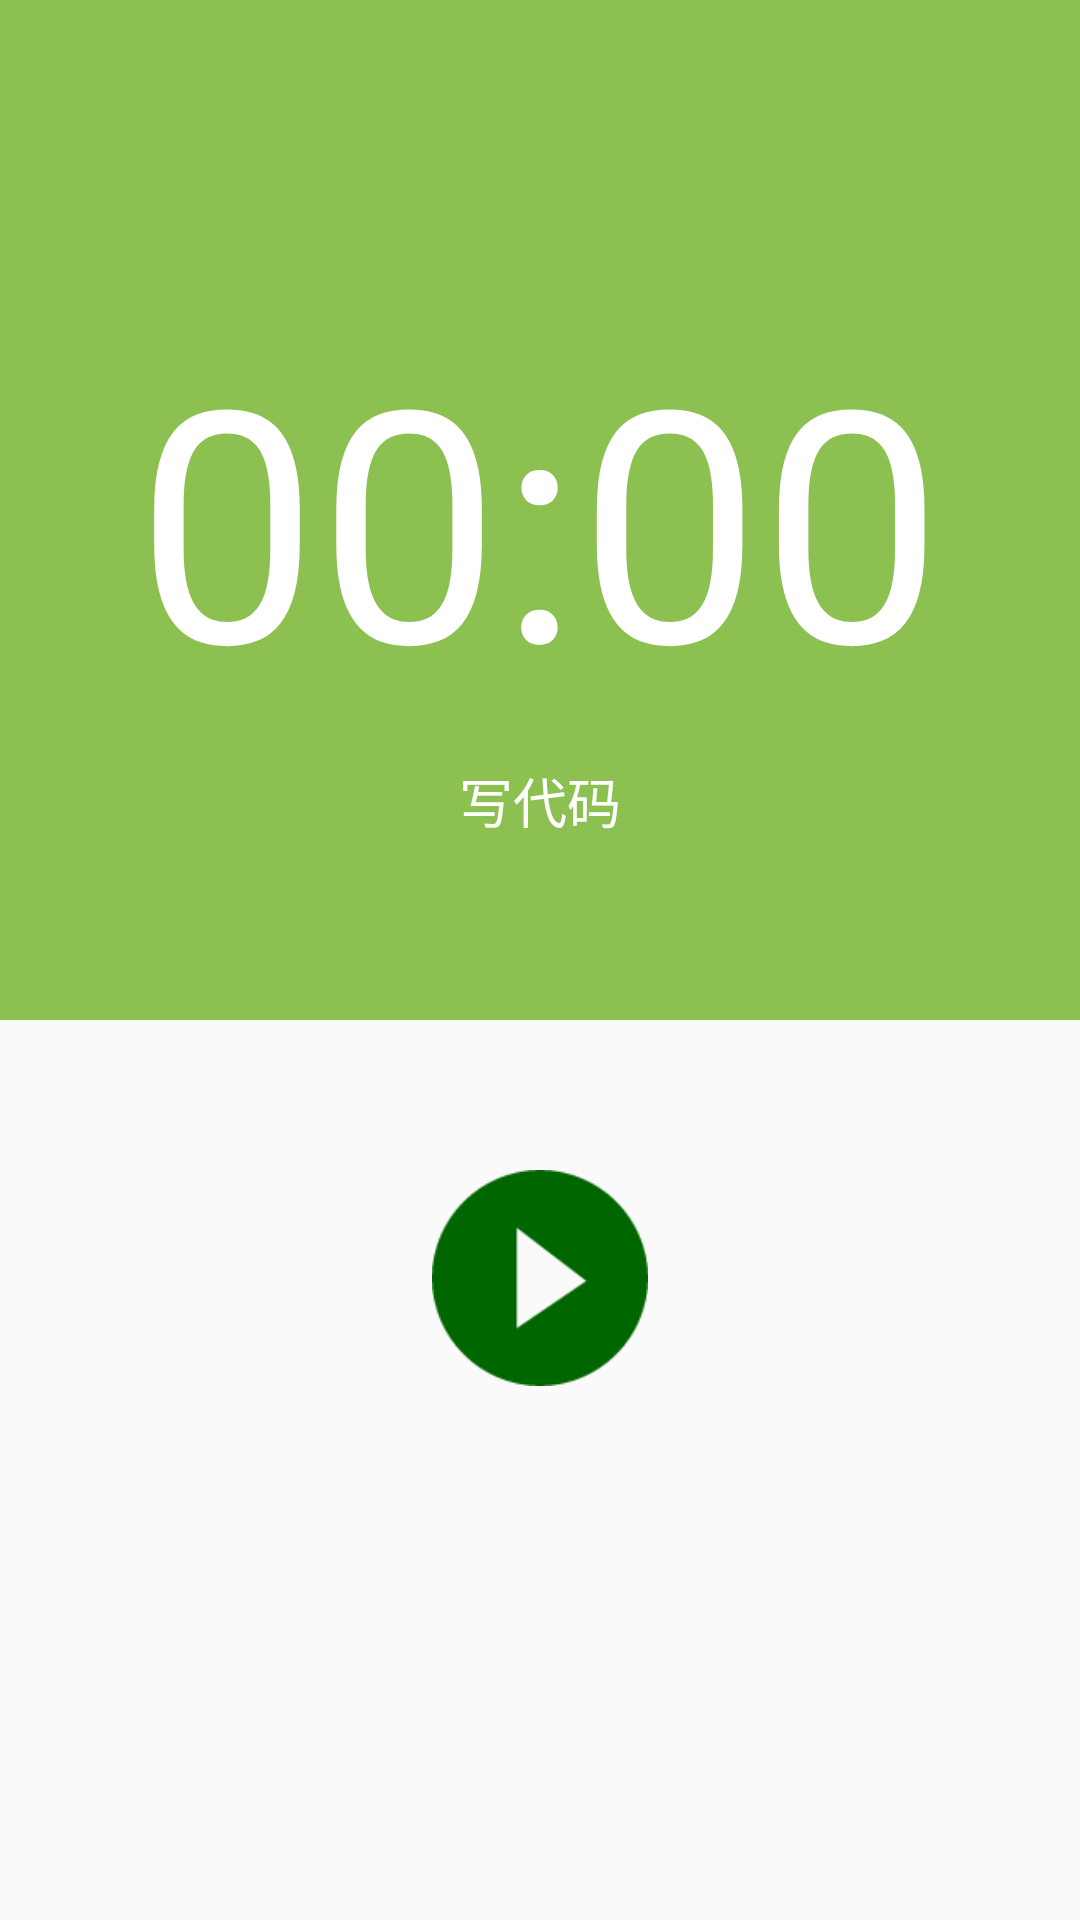

Locate icon controls on the screen. Image size 1080 × 1920, boxes as [x1=x1, y1=y1, x2=x2, y2=y2].
play: [x1=432, y1=1170, x2=648, y2=1386]
